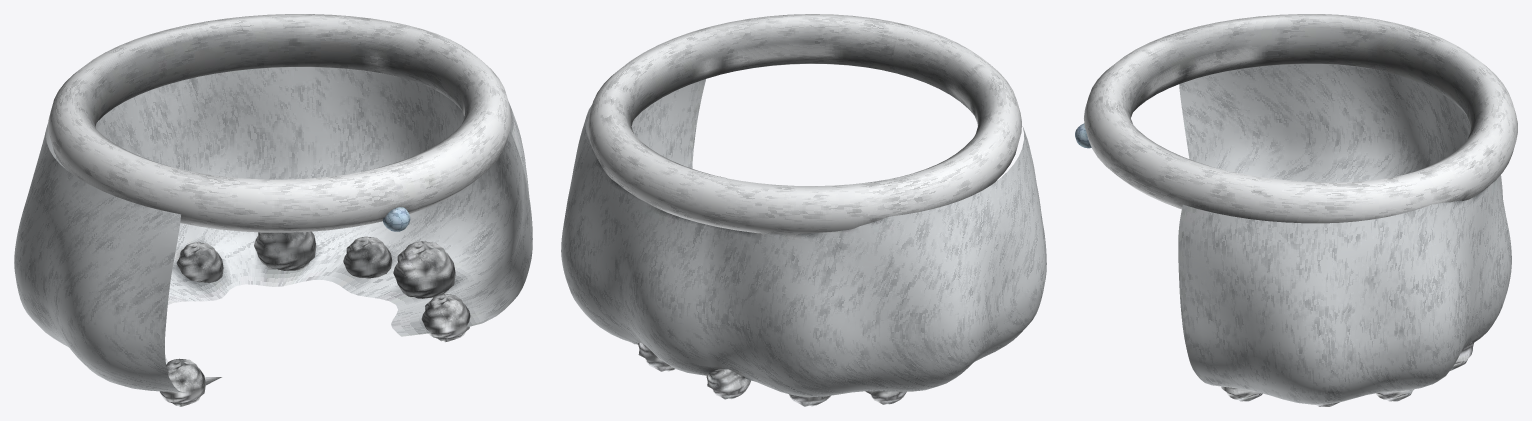
File: cloudcloak.glb
The picture shows the model from 3 angles, left to right: view 1: azimuth 30°, elevation 25°; view 2: azimuth 150°, elevation 25°; view 3: azimuth 270°, elevation 25°; orthographic projection. The views are drawn at different scales.
Parts seen in each view (by area): view 1: cloudcloak_cape, cloudcloak_collar, cloudcloak_puff1, cloudcloak_puff3, cloudcloak_puff0, cloudcloak_puff2, cloudcloak_puff8, cloudcloak_puff4, cloudcloak_clasp; view 2: cloudcloak_cape, cloudcloak_collar, cloudcloak_puff4; view 3: cloudcloak_cape, cloudcloak_collar.
Part boxes in pixels (x1,y1,x2,y2): cloudcloak_cape: (14,67,532,392); cloudcloak_collar: (48,14,511,232); cloudcloak_puff1: (393,241,455,298); cloudcloak_puff3: (254,231,316,270); cloudcloak_puff0: (421,294,470,342); cloudcloak_puff2: (343,236,392,278); cloudcloak_puff8: (159,358,205,406); cloudcloak_puff4: (176,242,223,282); cloudcloak_clasp: (383,207,410,231); cloudcloak_cape: (561,79,1046,397); cloudcloak_collar: (587,14,1021,234); cloudcloak_puff4: (706,369,750,399); cloudcloak_cape: (1178,64,1511,404); cloudcloak_collar: (1084,14,1517,223).
Size of the model in its own units: 33.93 by 18.09 by 29.66.
1 material, 1 textured.
